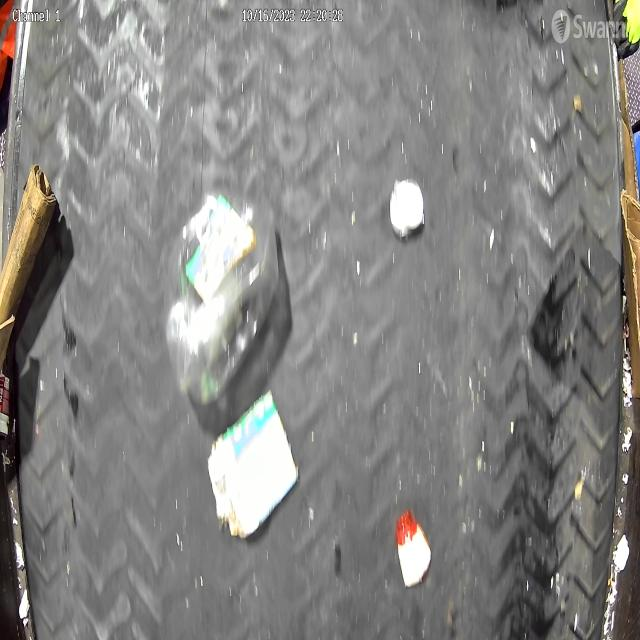can: (389, 178, 426, 246)
